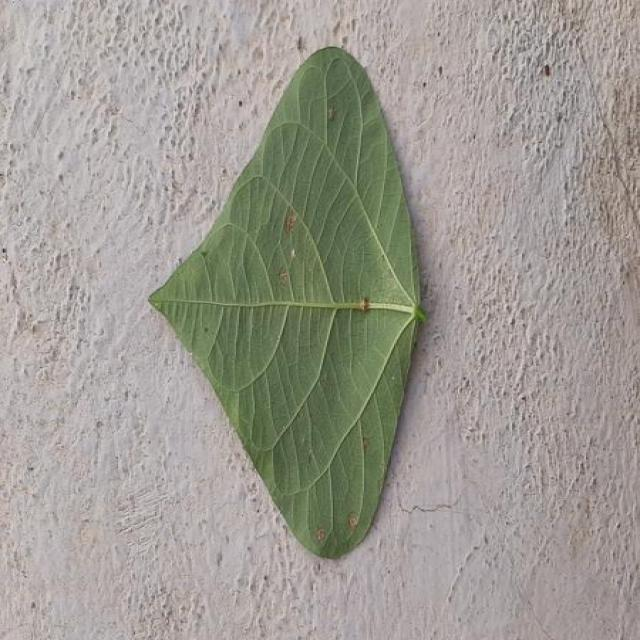beans: (150, 48, 425, 557)
defectedbeans: (273, 206, 320, 261)
